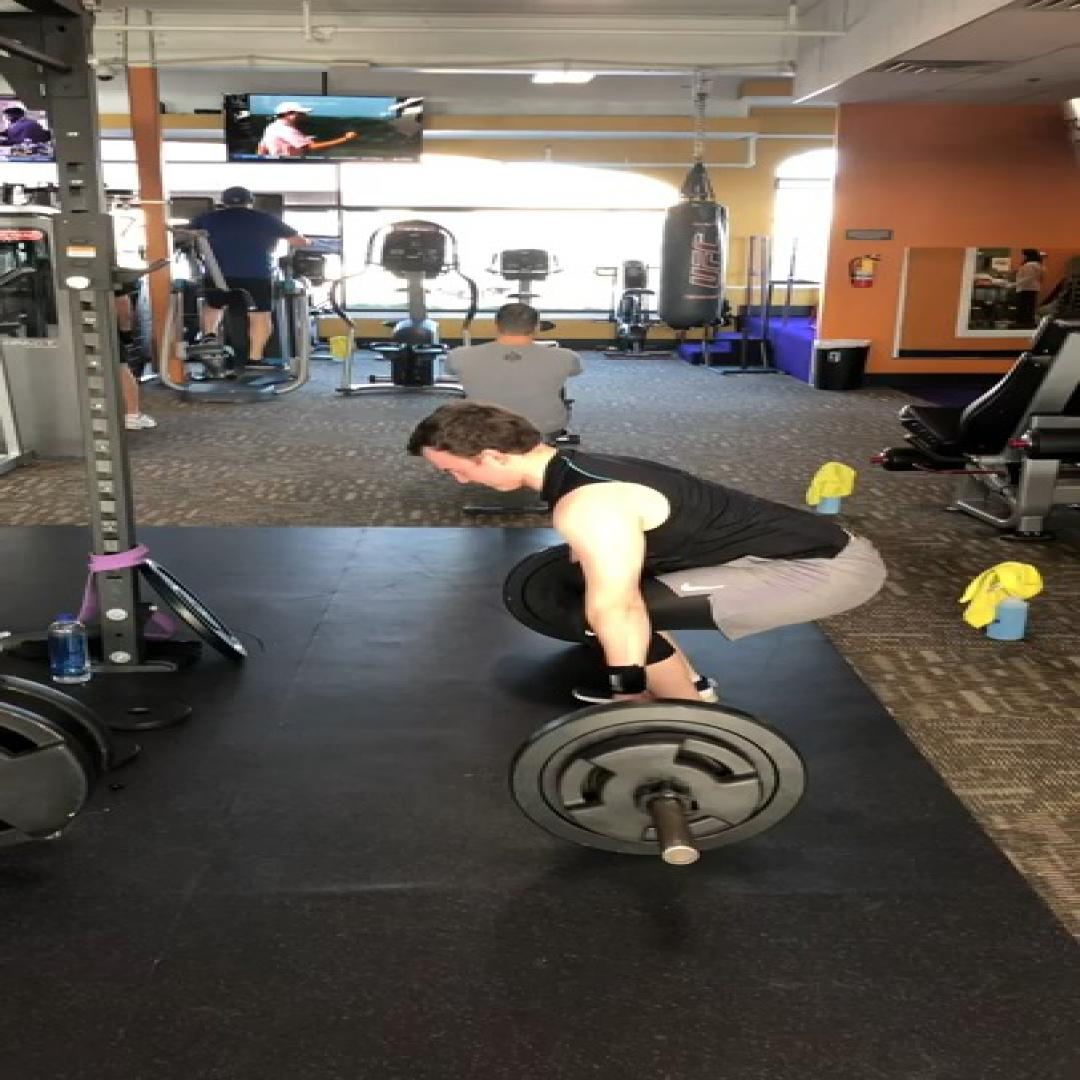Bar: (660, 843, 702, 867)
Barbell: (505, 698, 809, 858)
